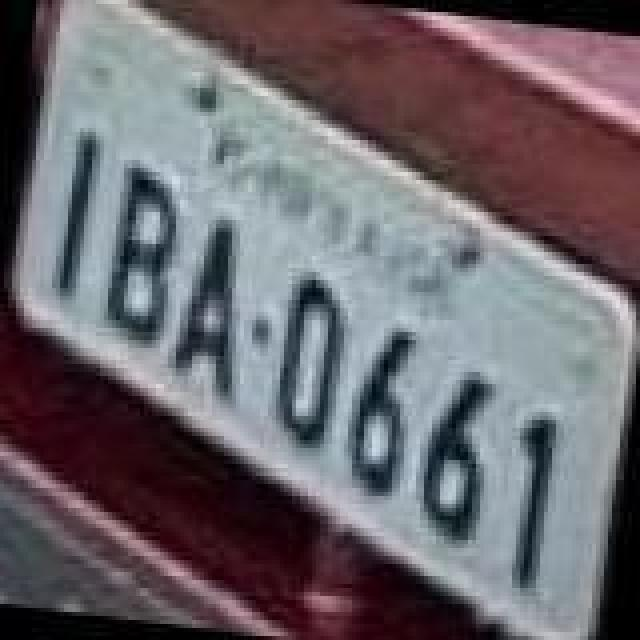1: (496, 404, 568, 596), (46, 126, 106, 306)
6: (332, 316, 436, 508), (408, 364, 504, 548)
A: (160, 208, 256, 400)
B: (96, 162, 192, 350)
O: (264, 266, 360, 454)
